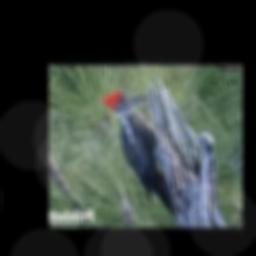Woodpecker: (102, 90, 175, 219)
